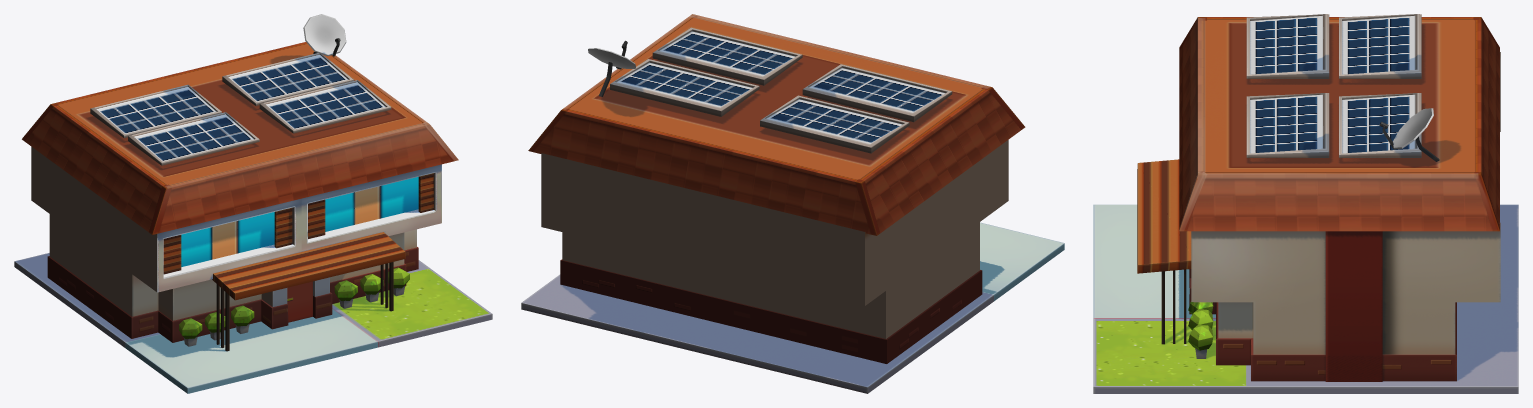
Rendered from player house 3.FBX.
3 views of the same model, side by side, from view 1: azimuth 30°, elevation 25°; view 2: azimuth 150°, elevation 25°; view 3: azimuth 270°, elevation 25° (orthographic). The views are drawn at different scales.
Parts seen in each view (by area): view 1: building_main, building_base, solar, pots, satellite3; view 2: building_main, solar, building_base, satellite3; view 3: building_main, building_base, solar, pots, satellite3.
Part boxes in pixels (x1,y1,x2,y2): building_main: (22, 42, 458, 351); building_base: (14, 253, 492, 393); solar: (90, 53, 391, 165); pots: (179, 267, 409, 346); satellite3: (303, 14, 346, 56); building_main: (528, 14, 1025, 363); solar: (610, 27, 952, 153); building_base: (521, 222, 1064, 393); satellite3: (588, 40, 635, 96); building_main: (1137, 17, 1500, 381); building_base: (1093, 204, 1518, 393); solar: (1246, 14, 1421, 157); pots: (1188, 301, 1213, 358); satellite3: (1379, 108, 1439, 161).
Bounding box in the file's own units: 27.37 × 26.8 × 18.07.
